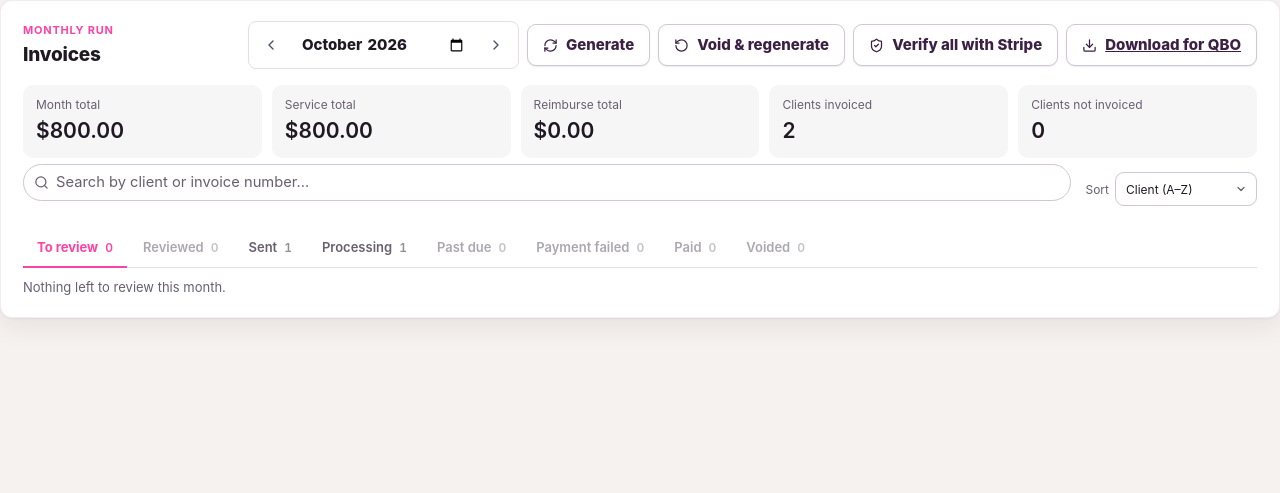
Test case: the Processing tab › holds a processing invoice, with its count, and Sent does not
Check: the tab "Processing 1" is shown, box [308,229,421,268]
Click the tab "Sent 1".
click(270, 249)  # box [234,229,306,268]
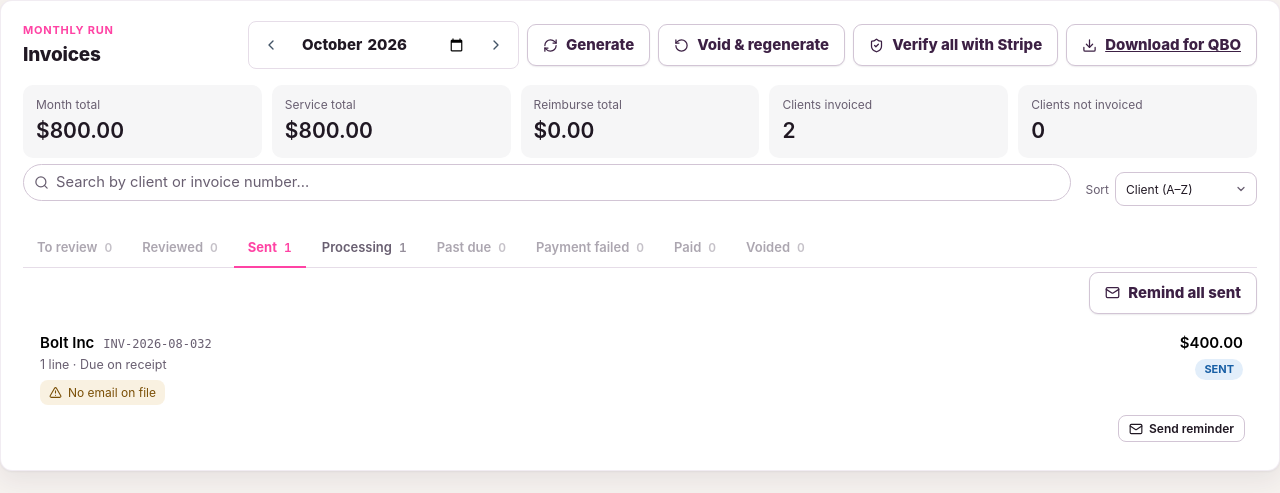
Check: the text "INV-2026-08-031" is not shown
Check: the text "INV-2026-08-032" is shown, box [103,336,212,353]
Click the tab "Processing 1".
click(364, 249)  # box [308,229,421,268]
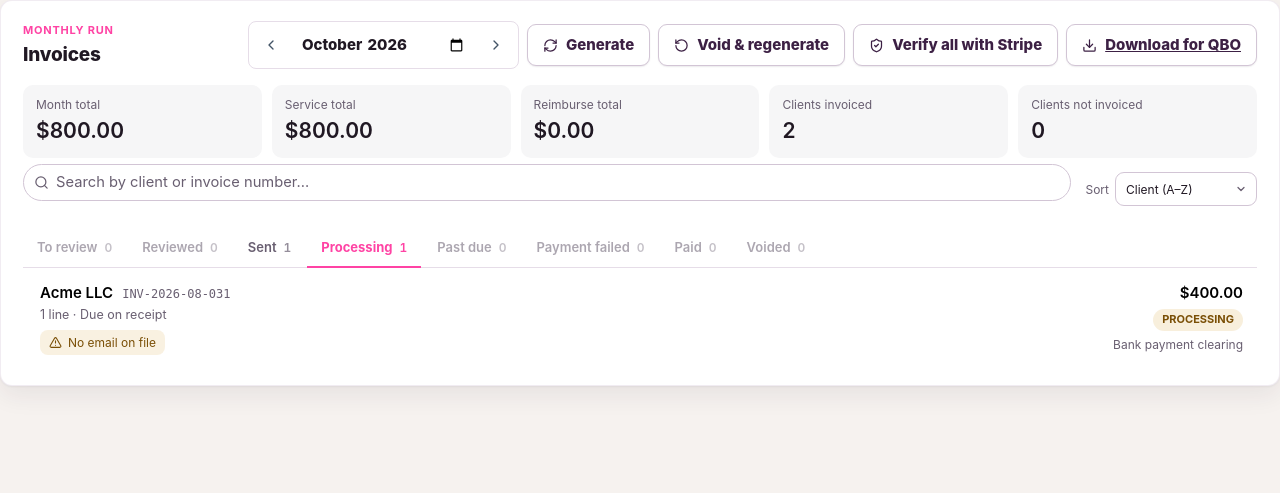
Check: the text "INV-2026-08-031" is shown, box [122,286,231,303]
Check: the button "INV-2026-08-032" is gone
